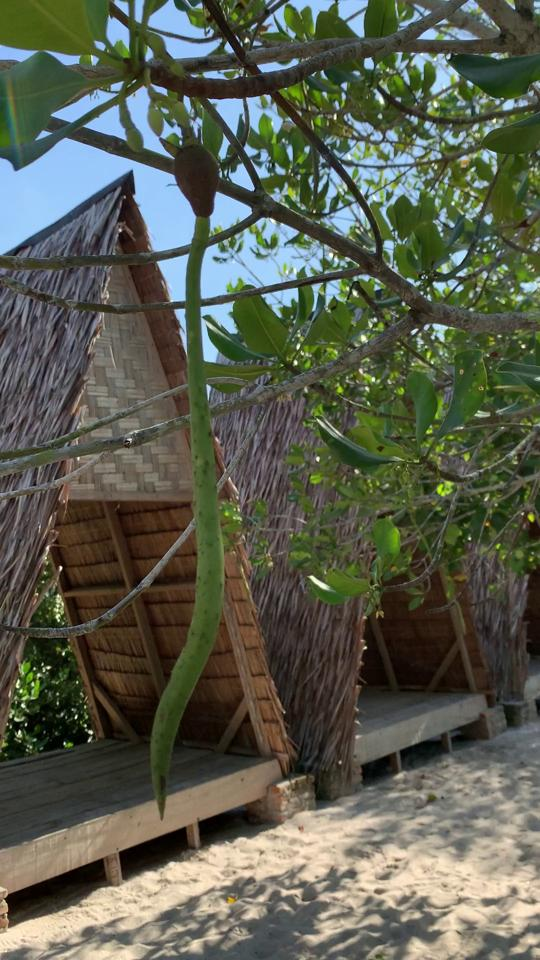setengah matang: (133, 118, 241, 816)
